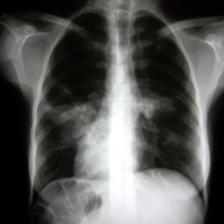tuberculosis: (25, 4, 210, 220)
